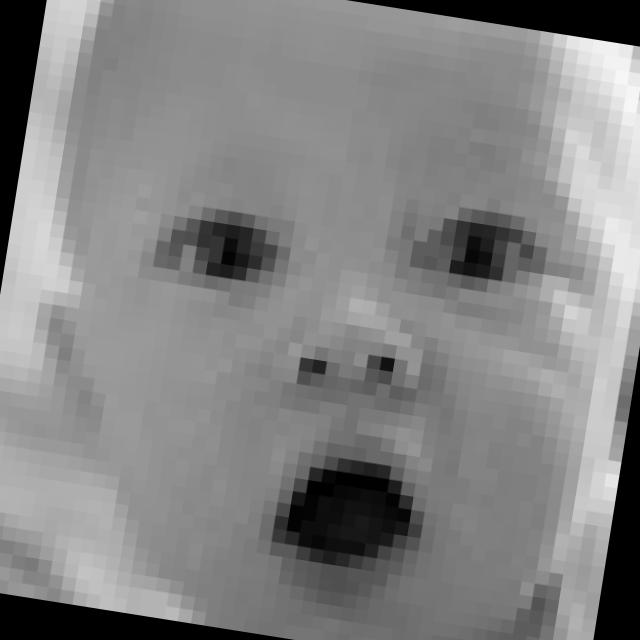surprise: (90, 152, 592, 624)
